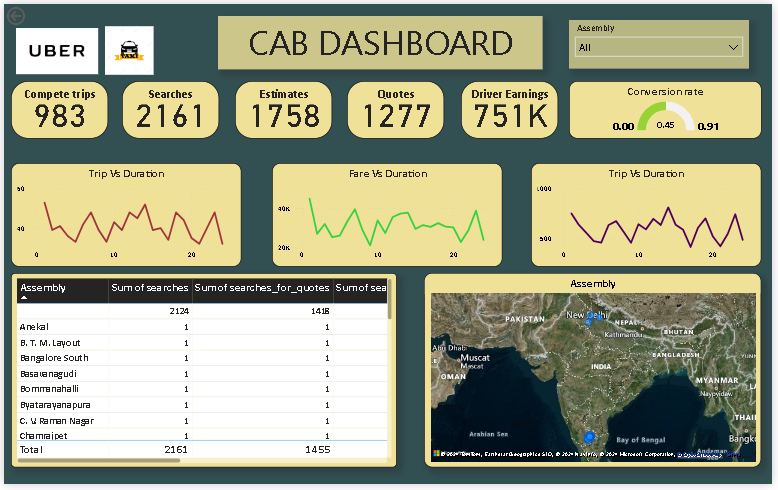

The page's visual inventory and layout, read from the dashboard file:
{"tool":"powerbi","page":{"name":"Page 1","canvas":[1280,800],"ordinal":0},"visuals":[{"type":"card","title":"Compete trips","fields":{"Values":["Sum(uber_database trip_details.end_ride)"]},"box":[11,129.1,162.2,96.1],"z":0},{"type":"card","title":"Searches","fields":{"Values":["Sum(uber_database trip_details.searches)"]},"box":[196.9,129.1,162.2,96.1],"z":1000},{"type":"card","title":"Estimates","fields":{"Values":["Sum(uber_database trip_details.searches_got_estimate)"]},"box":[384.3,129.1,162.2,96.1],"z":2000},{"type":"card","title":"Quotes","fields":{"Values":["Sum(uber_database trip_details.searches_got_quotes)"]},"box":[571.7,129.1,162.2,96.1],"z":3000},{"type":"card","title":"Driver Earnings","fields":{"Values":["Sum(uber_database trips.fare)"]},"box":[762.2,129.1,162.2,96.1],"z":4000},{"type":"gauge","fields":{"Y":["uber_database trip_details.Conversion rate"]},"box":[941.7,129.1,321.3,96.1],"z":5000},{"type":"lineChart","title":"Trip Vs Duration","fields":{"Category":["uber_database trips.duration"],"Y":["CountNonNull(uber_database trip_details.tripid)"]},"box":[11,264.6,384.3,173.2],"z":6000},{"type":"lineChart","title":"Fare Vs Duration","fields":{"Category":["uber_database trips.duration"],"Y":["Sum(uber_database trips.fare)"]},"box":[447.2,264.6,384.3,173.2],"z":7000},{"type":"lineChart","title":"Trip Vs Duration","fields":{"Category":["uber_database trips.duration"],"Y":["Sum(uber_database trips.distance)"]},"box":[878.7,264.6,384.3,173.2],"z":8000},{"type":"actionButton","box":[0,0,100,40],"z":9000},{"type":"tableEx","fields":{"Values":["uber_database assembly.Assembly","Sum(uber_database trip_details.searches)","Sum(uber_database trip_details.searches_for_quotes)","Sum(uber_database trip_details.searches_got_estimate)","Sum(uber_database trip_details.searches_got_quotes)","Sum(uber_database trips.distance)","Sum(uber_database trips.fare)","uber_database trip_details.Conversion rate"]},"box":[11,448.8,642.5,324.4],"z":10000},{"type":"map","title":"Assembly","fields":{"Category":["uber_database assembly.Assembly"]},"box":[700.8,448.8,562.2,324.4],"z":10001},{"type":"image","box":[15.7,0,147.1,157.1],"z":10002},{"type":"image","box":[162.9,30,91.4,95.7],"z":10003},{"type":"textbox","box":[357.1,20,541.4,88.6],"z":10004},{"type":"slicer","fields":{"Values":["uber_database assembly.Assembly"]},"box":[941.4,27.1,300,81.4],"z":10005}]}

Visuals, with their boxes in screenshot pixels (x1, y1, x2, y2), scaled from the page's 1280x800 canvas onto the 778x490 screenshot:
"Compete trips" card: pyautogui.locateOnScreen(7, 79, 105, 138)
"Searches" card: pyautogui.locateOnScreen(120, 79, 218, 138)
"Estimates" card: pyautogui.locateOnScreen(234, 79, 332, 138)
"Quotes" card: pyautogui.locateOnScreen(347, 79, 446, 138)
"Driver Earnings" card: pyautogui.locateOnScreen(463, 79, 562, 138)
gauge - uber_database trip_details.Conversion rate: pyautogui.locateOnScreen(572, 79, 768, 138)
"Trip Vs Duration" lineChart: pyautogui.locateOnScreen(7, 162, 240, 268)
"Fare Vs Duration" lineChart: pyautogui.locateOnScreen(272, 162, 505, 268)
"Trip Vs Duration" lineChart: pyautogui.locateOnScreen(534, 162, 768, 268)
actionButton: pyautogui.locateOnScreen(0, 0, 61, 24)
tableEx - uber_database assembly.Assembly x Sum(uber_database trip_details.searches): pyautogui.locateOnScreen(7, 275, 397, 474)
"Assembly" map: pyautogui.locateOnScreen(426, 275, 768, 474)
image: pyautogui.locateOnScreen(10, 0, 99, 96)
image: pyautogui.locateOnScreen(99, 18, 155, 77)
textbox: pyautogui.locateOnScreen(217, 12, 546, 67)
slicer - uber_database assembly.Assembly: pyautogui.locateOnScreen(572, 17, 755, 66)
